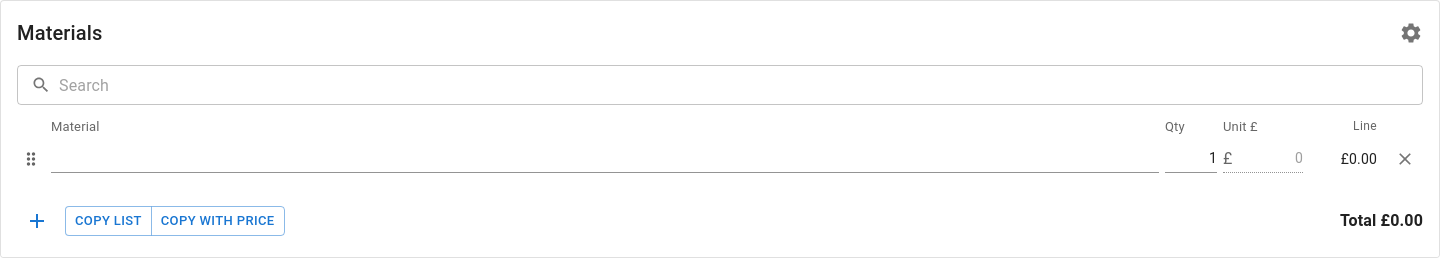
Scenario: editing a material name › offers a catalogue name and keeps a typed quantity prefix
In the dropdown named "Material name": (605, 158) [51, 144, 1159, 172], type "2x sil"
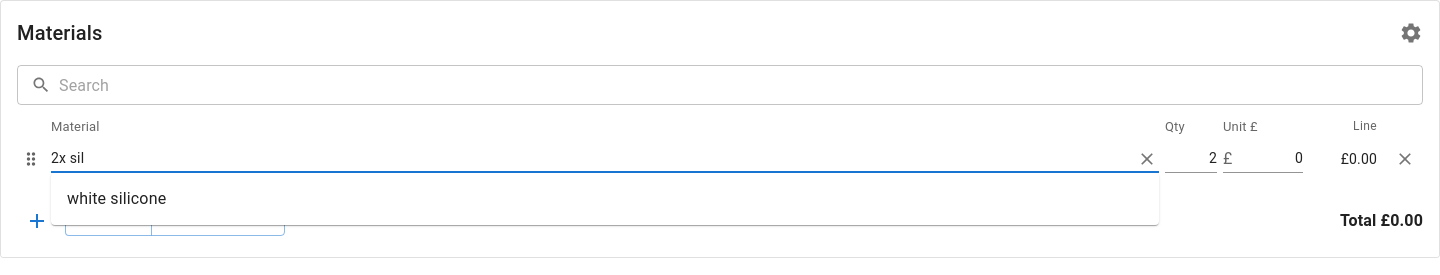
Click the option "white silicone": (117, 198) [67, 189, 166, 208]
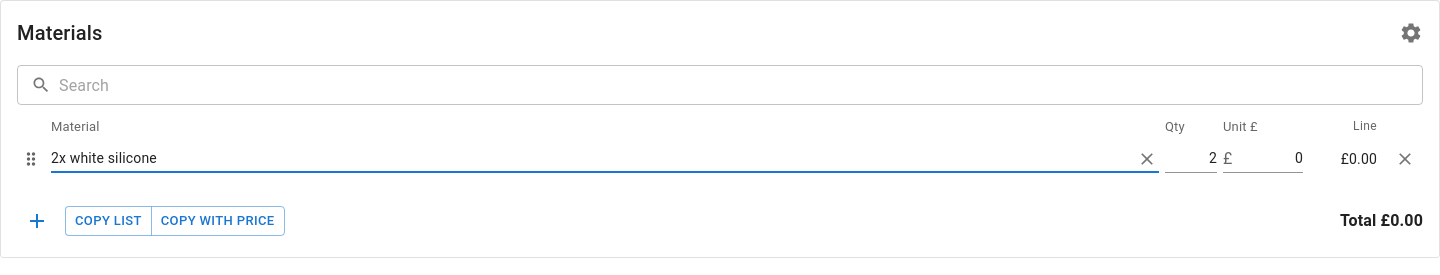
expect the field named "Quantity for" holds "2": met, box [1165, 144, 1217, 173]
expect the dropdown named "Material name" holds "2x white silicone": met, box [51, 144, 1129, 172]
